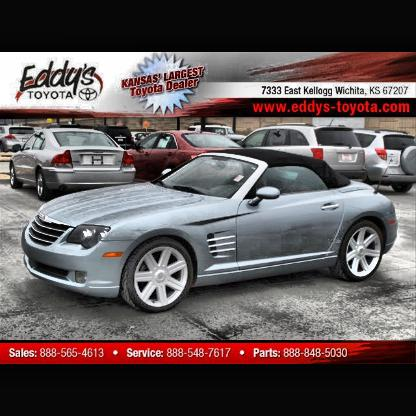Chrysler Crossfire Convertible 2008: (22, 151, 399, 314)
